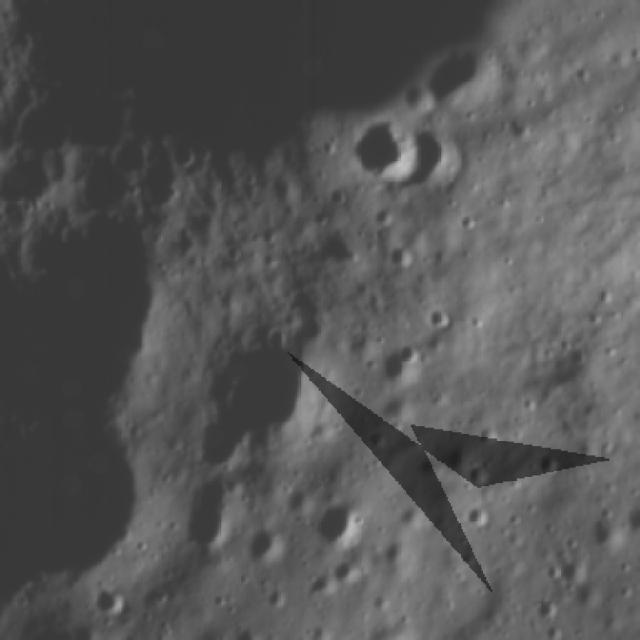crater: (349, 118, 414, 179), (431, 46, 498, 103), (408, 123, 459, 188), (256, 526, 290, 568), (97, 586, 134, 622), (333, 502, 373, 535), (374, 201, 400, 239), (390, 238, 418, 273), (535, 442, 559, 480), (304, 576, 333, 606), (428, 310, 457, 336), (342, 559, 376, 579), (231, 621, 259, 640), (331, 190, 349, 218), (475, 461, 494, 485), (465, 506, 487, 526), (474, 431, 497, 446)
